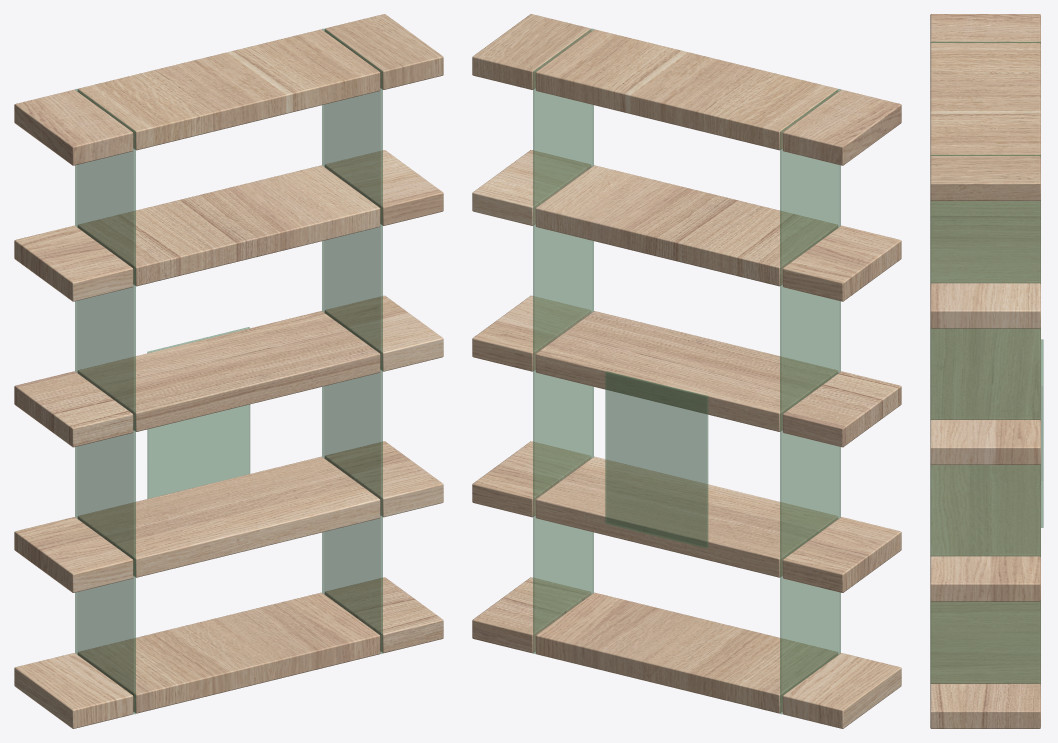
File: Esco Shelving Unit, Oak_Sketchfab.fbx
3 views of the same model, side by side, from view 1: azimuth 30°, elevation 25°; view 2: azimuth 150°, elevation 25°; view 3: azimuth 270°, elevation 25° (orthographic). The views are drawn at different scales.
Visible parts, largest first — view 1: Esco_Shelving_Unit_Oak; view 2: Esco_Shelving_Unit_Oak; view 3: Esco_Shelving_Unit_Oak.
Part boxes in pixels (x1=…): Esco_Shelving_Unit_Oak: x1=14, y1=14, x2=443, y2=728; Esco_Shelving_Unit_Oak: x1=472, y1=14, x2=901, y2=728; Esco_Shelving_Unit_Oak: x1=930, y1=14, x2=1043, y2=728.
Size of what is drawn, in the model's own units: 120 by 181 by 33.81.
